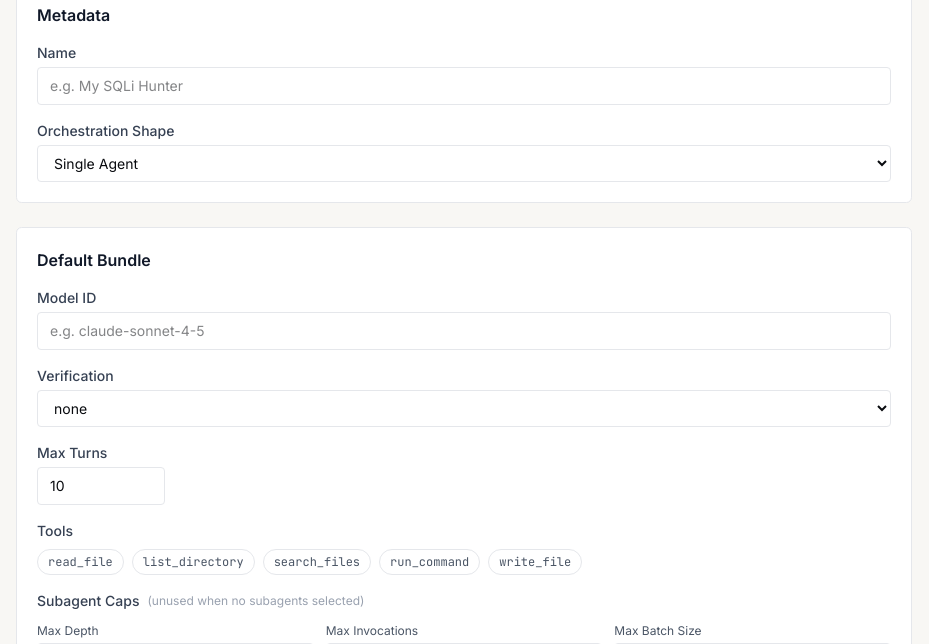
Scenario: StrategyEditor — new strategy › removing a rule decrements the rule count
Select "Per File" in the dropdown with test id "shape-select": [464, 164] box [37, 145, 891, 182]
(page scrolled)
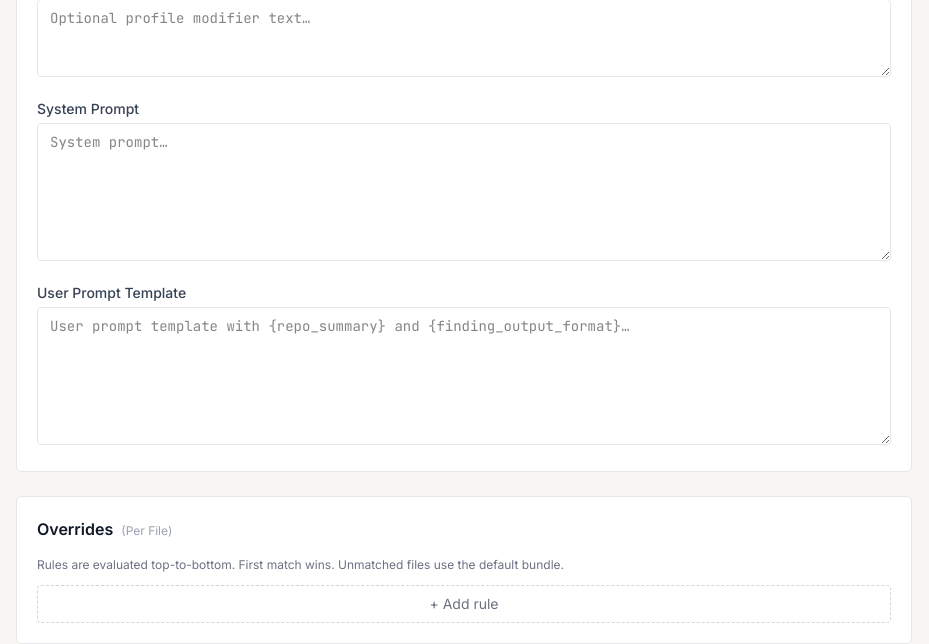
Now the button with test id "add-rule-btn" is shown
Click the button with test id "add-rule-btn": [464, 604] box [37, 585, 891, 623]
(page scrolled)
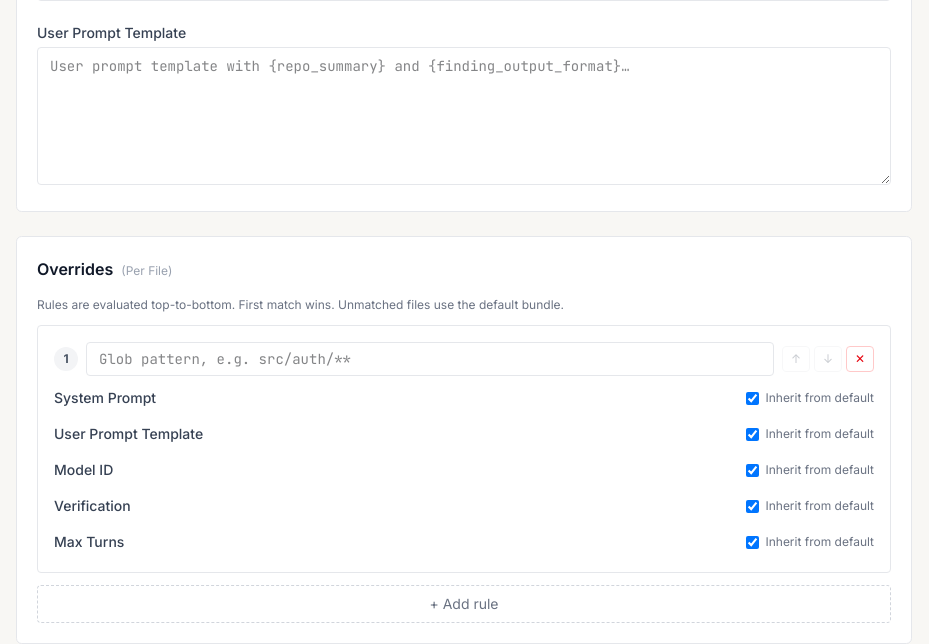
Click the button with test id "add-rule-btn": [464, 604] box [37, 585, 891, 623]
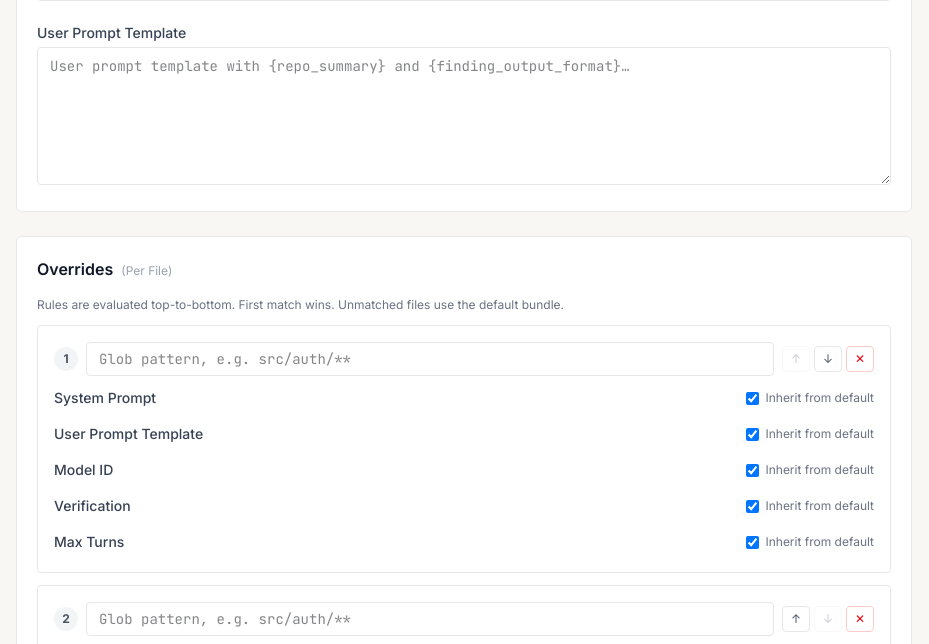
Click the button with test id "remove-rule-btn": [860, 359] box [846, 346, 874, 372]
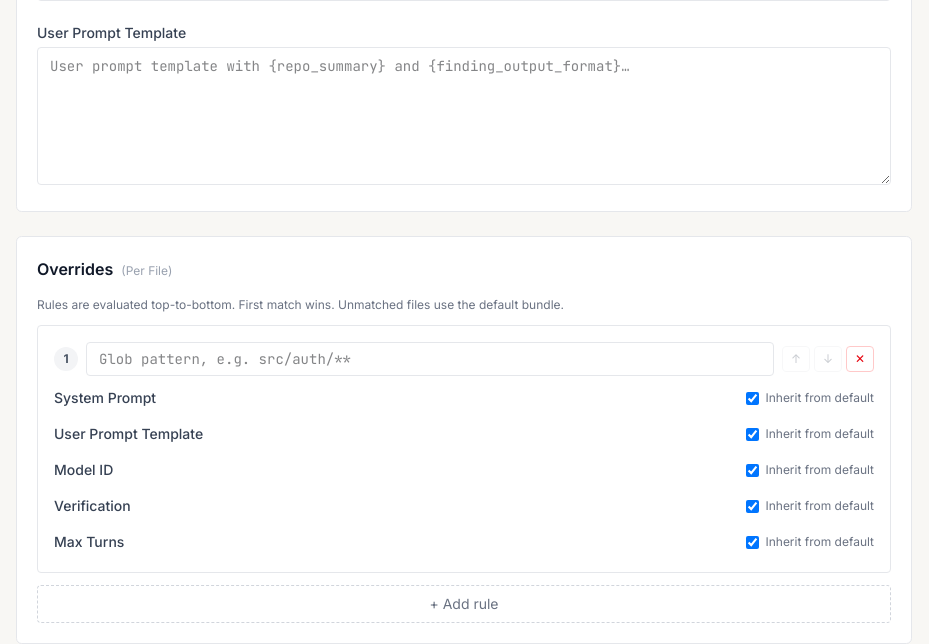
Now the number of elements with test id "override-rule" is 1, box [37, 325, 891, 573]
